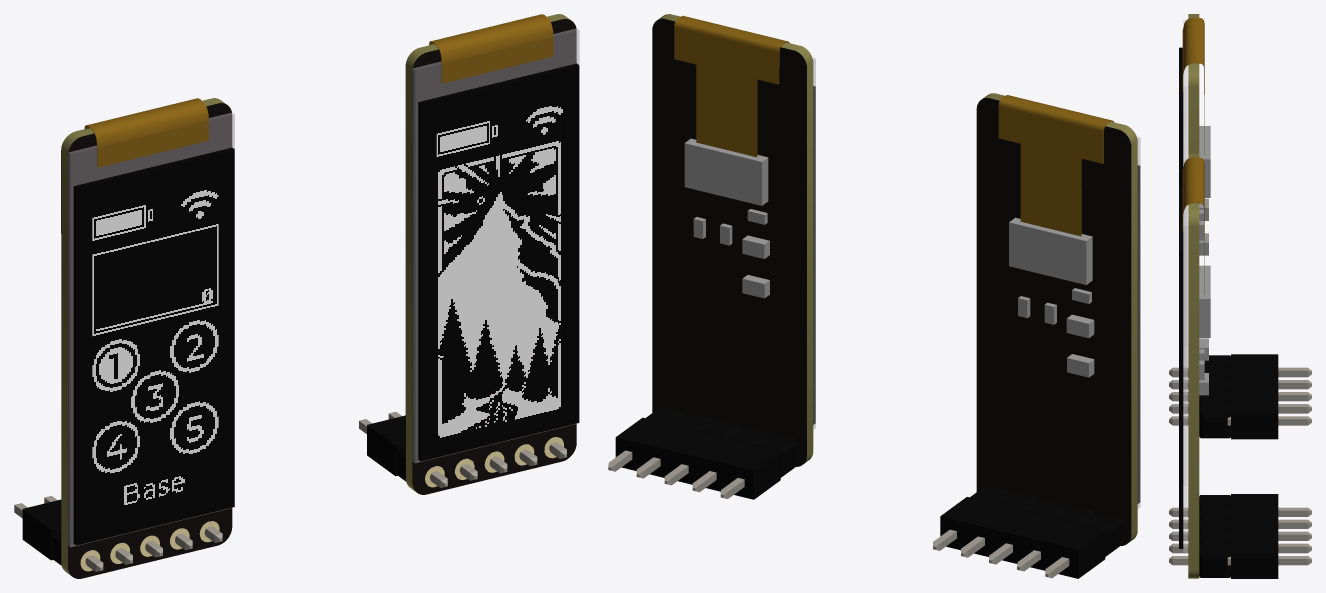
The model's file is view.glb.
3 views of the same model, side by side, from view 1: azimuth 30°, elevation 25°; view 2: azimuth 150°, elevation 25°; view 3: azimuth 270°, elevation 25° (orthographic). The views are drawn at different scales.
Size of the model in its own units: 0.0433 by 0.0363 by 0.0127.
11 materials, 2 textured.
